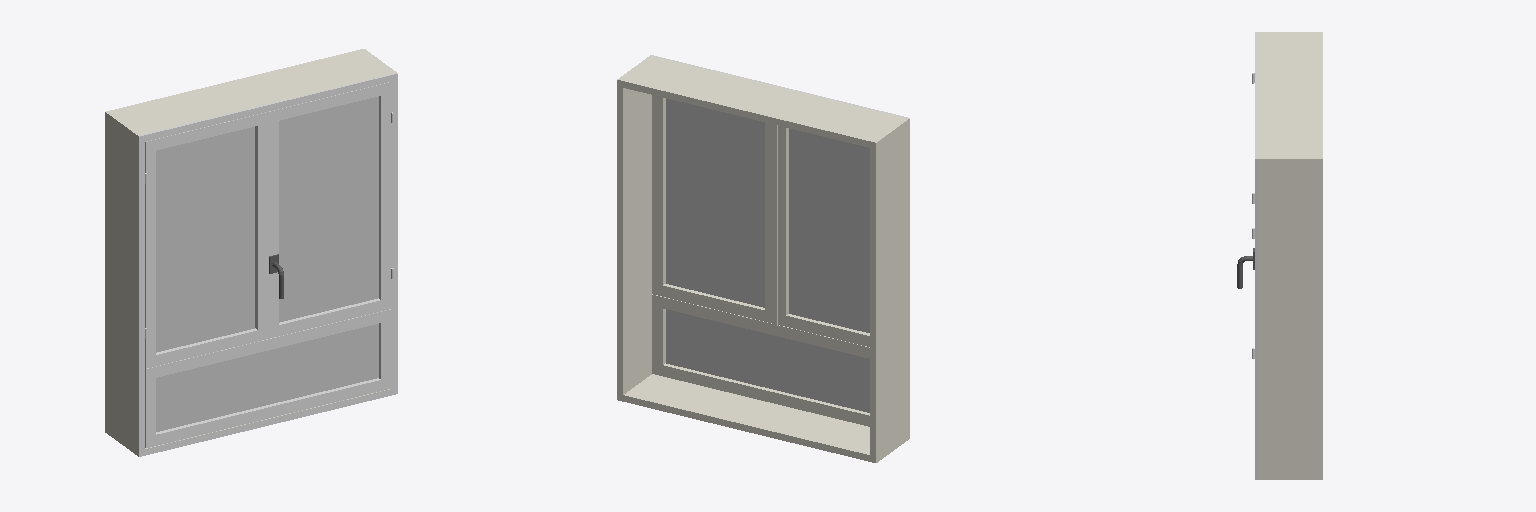
Rendered from window.obj.
The picture shows the model from 3 angles: view 1: azimuth 30°, elevation 25°; view 2: azimuth 150°, elevation 25°; view 3: azimuth 270°, elevation 25°; orthographic projection.
Visible parts, largest first — view 1: cage_Cube.001, glass.001_Cube.002, glass_Cube.004, glass.002_Cube.012, frame_Cube.003, frame.001_Cube.000, frame.002_Cube.005; view 2: cage_Cube.001, glass.001_Cube.002, glass_Cube.004, glass.002_Cube.012, frame.002_Cube.005, frame.001_Cube.000, frame_Cube.003, Cube.001_Cube.011; view 3: cage_Cube.001.
Part boxes in pixels (left/top/right/bottom): cage_Cube.001: left=105, top=49, right=397, bottom=456; glass.001_Cube.002: left=279, top=96, right=378, bottom=322; glass_Cube.004: left=156, top=127, right=254, bottom=352; glass.002_Cube.012: left=156, top=324, right=378, bottom=431; frame_Cube.003: left=145, top=112, right=268, bottom=368; frame.001_Cube.000: left=269, top=82, right=391, bottom=338; frame.002_Cube.005: left=145, top=309, right=391, bottom=447; cage_Cube.001: left=617, top=55, right=909, bottom=462; glass.001_Cube.002: left=666, top=98, right=764, bottom=307; glass_Cube.004: left=789, top=128, right=869, bottom=332; glass.002_Cube.012: left=666, top=309, right=869, bottom=412; frame.002_Cube.005: left=652, top=294, right=869, bottom=426; frame.001_Cube.000: left=652, top=95, right=771, bottom=322; frame_Cube.003: left=778, top=126, right=869, bottom=346; Cube.001_Cube.011: left=772, top=124, right=777, bottom=325; cage_Cube.001: left=1255, top=32, right=1322, bottom=479.
Bounding box in the file's own units: 110 × 130 × 31.27.